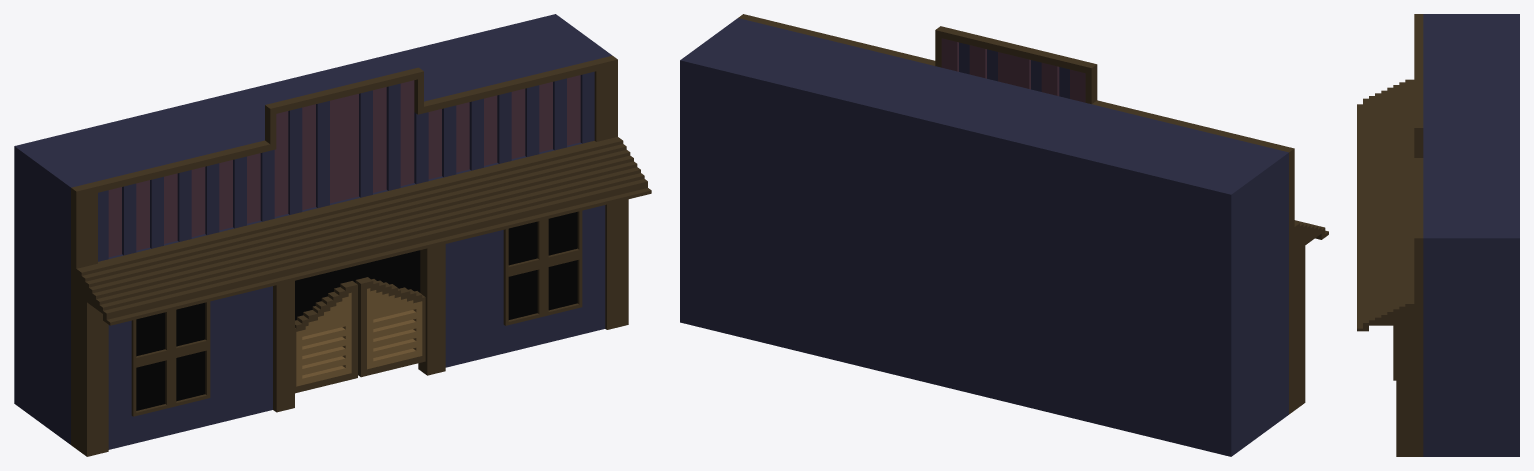
The model's file is cantinaazul.obj.
3 renders of one model, left to right at view 1: azimuth 30°, elevation 25°; view 2: azimuth 150°, elevation 25°; view 3: azimuth 270°, elevation 25°, orthographic. The views are drawn at different scales.
Size of the model in its own units: 17.6 by 9.1 by 5.4.
Materials: 1 (1 with a texture image).
